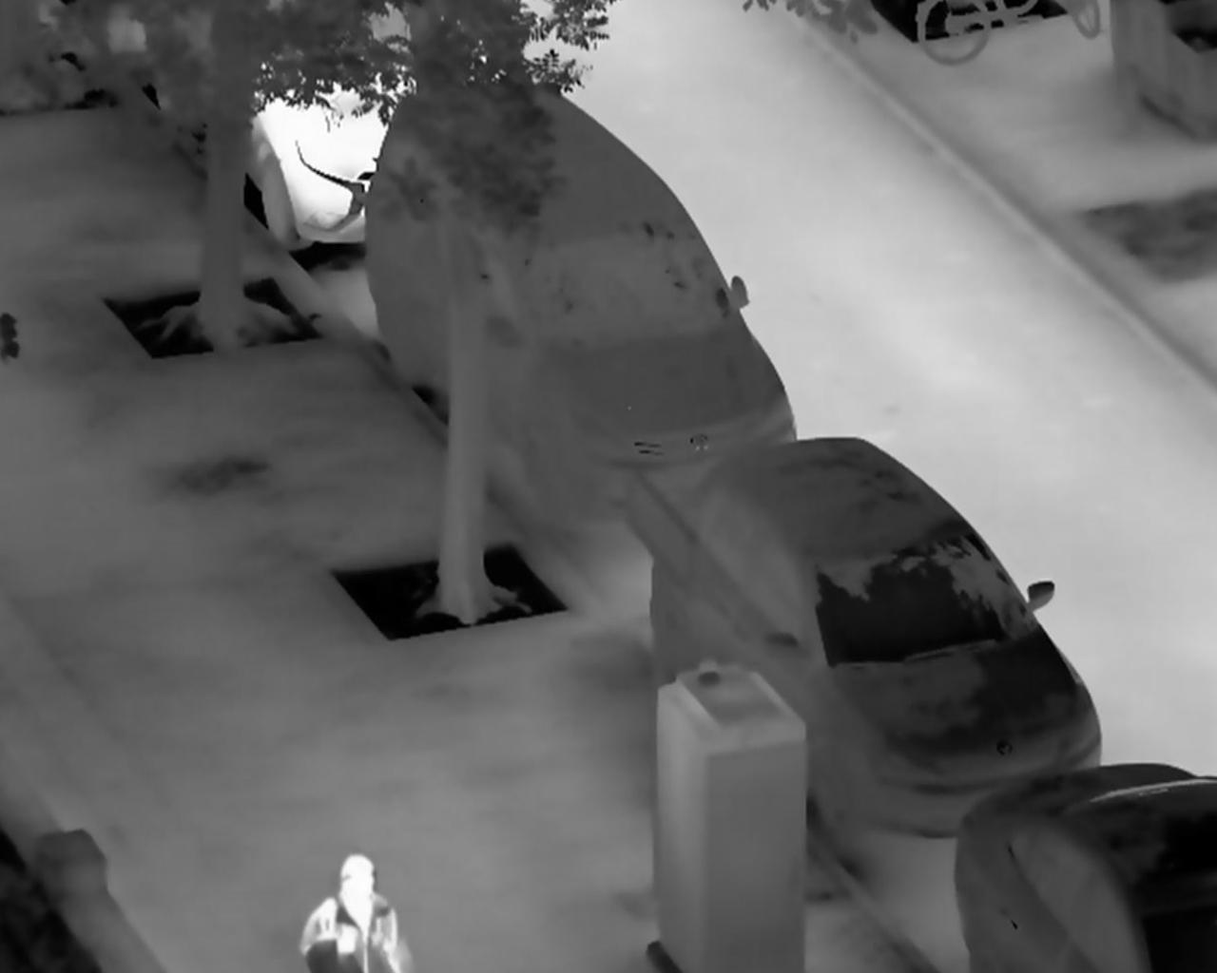person: (299, 852, 409, 973)
